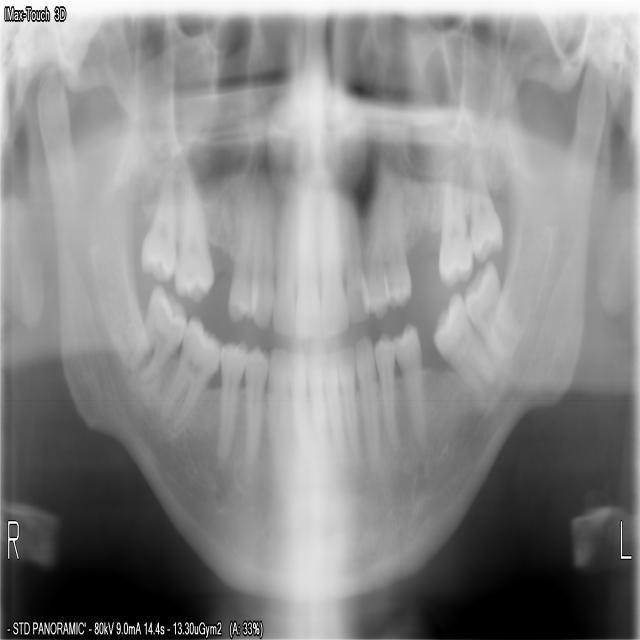LIU: (317, 172, 349, 336), (338, 170, 370, 325)
LMD: (425, 283, 498, 421)
LMU: (434, 149, 474, 287), (463, 137, 503, 265)
LPMU: (357, 169, 388, 319), (381, 170, 412, 316)
RMD: (152, 309, 224, 445), (119, 279, 186, 386)
RMU: (170, 154, 215, 308), (134, 148, 176, 284)
RPMD: (209, 329, 249, 477), (237, 330, 269, 495)
